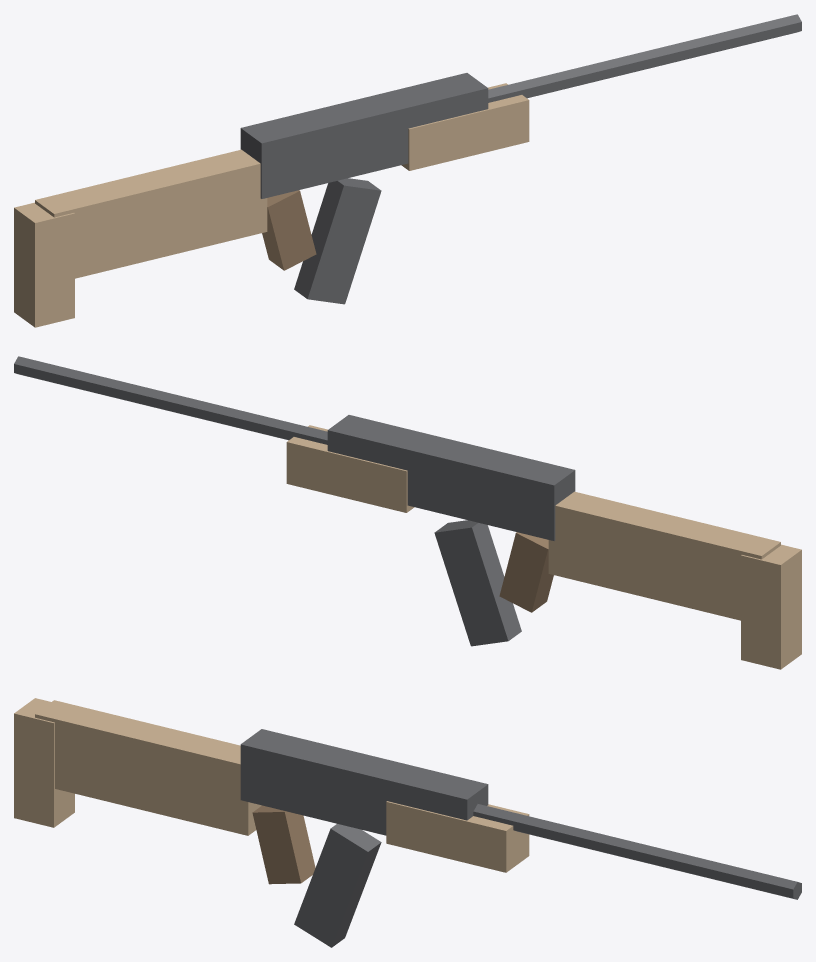
The model's file is held_weapon_akm.glb.
3 views of the same model, one above another, from view 1: azimuth 30°, elevation 25°; view 2: azimuth 150°, elevation 25°; view 3: azimuth 330°, elevation 25° (orthographic).
Visible parts, largest first — view 1: held_weapon_akm; view 2: held_weapon_akm; view 3: held_weapon_akm.
Part boxes in pixels (x1,y1,x2,y2): held_weapon_akm: (14, 14, 801, 327); held_weapon_akm: (14, 356, 801, 669); held_weapon_akm: (14, 698, 801, 947).
Size of the model in its own units: 1.16 by 0.2654 by 0.06.
